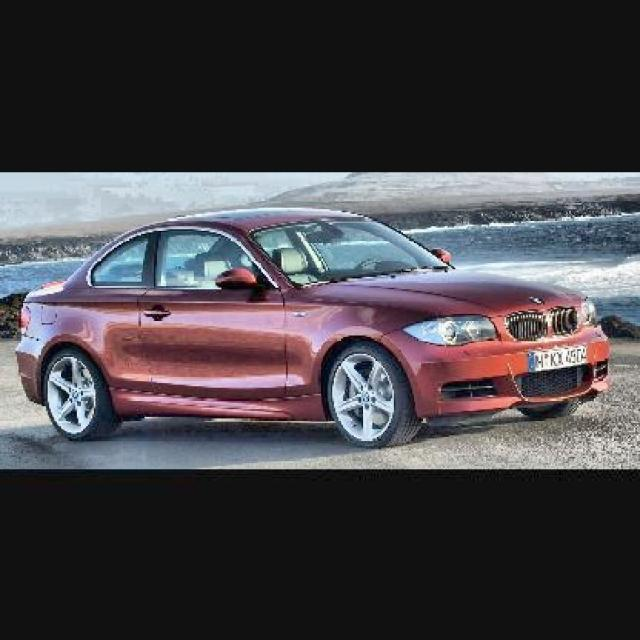maroon: (24, 191, 598, 436)
